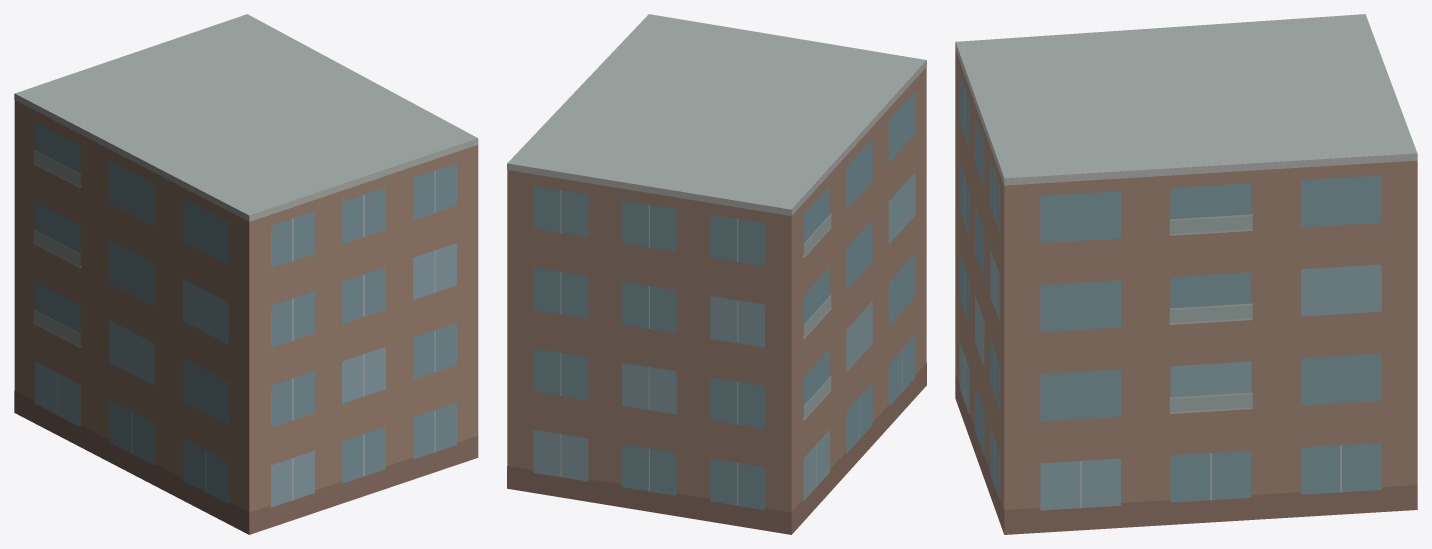
File: survey-upis-32905588.glb
The picture shows the model from 3 angles, left to right: view 1: azimuth 30°, elevation 25°; view 2: azimuth 150°, elevation 25°; view 3: azimuth 270°, elevation 25°; orthographic projection. The views are drawn at different scales.
Visible parts, largest first — view 1: survey-upis-32905588.tmp; view 2: survey-upis-32905588.tmp; view 3: survey-upis-32905588.tmp.
Boxes of the visible parts, x1,y1,x2,y2 form: survey-upis-32905588.tmp: (14, 14, 478, 534); survey-upis-32905588.tmp: (507, 14, 926, 534); survey-upis-32905588.tmp: (955, 14, 1417, 534).
Bounding box in the file's own units: 12.08 × 12.2 × 14.35.
